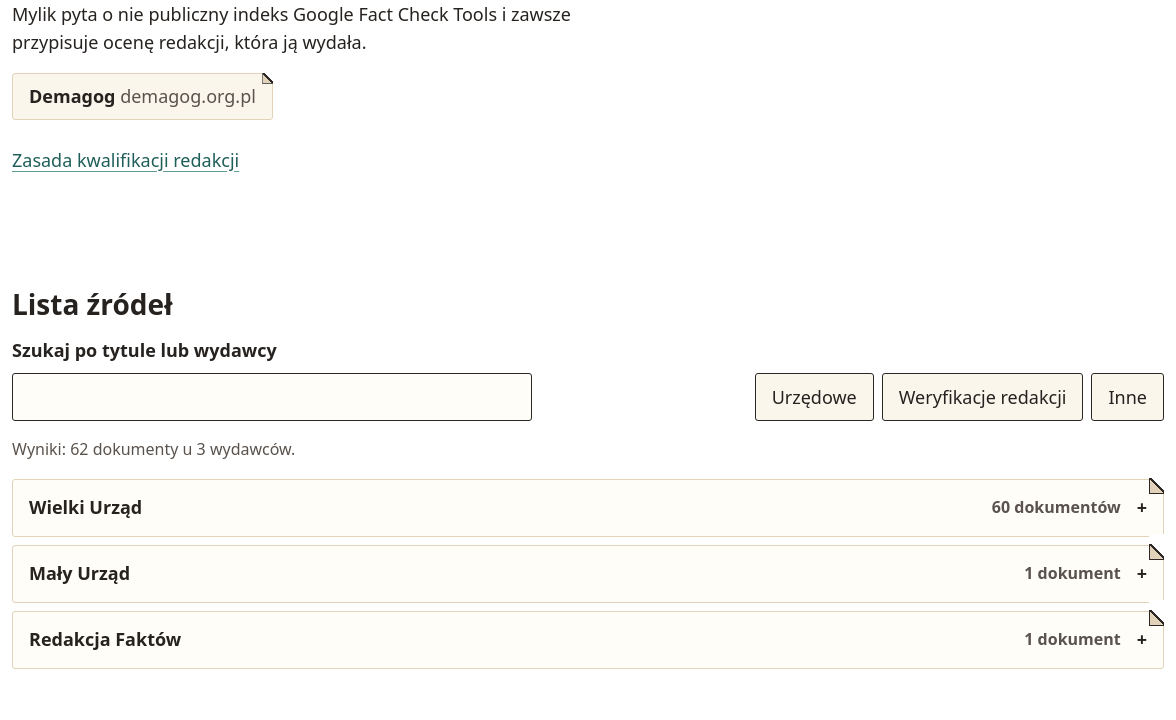
Test: strona Źródła › filtr tekstowy i przełączniki zawężają listę i aktualizują licznik
(page scrolled)
Expected: the heading "Lista źródeł" is shown, top-left (12, 285), bottom-right (173, 323)
Type "lodz" into the search field labelled "Szukaj po tytule lub wydawcy" at (272, 397), box top-left (12, 373), bottom-right (532, 421)
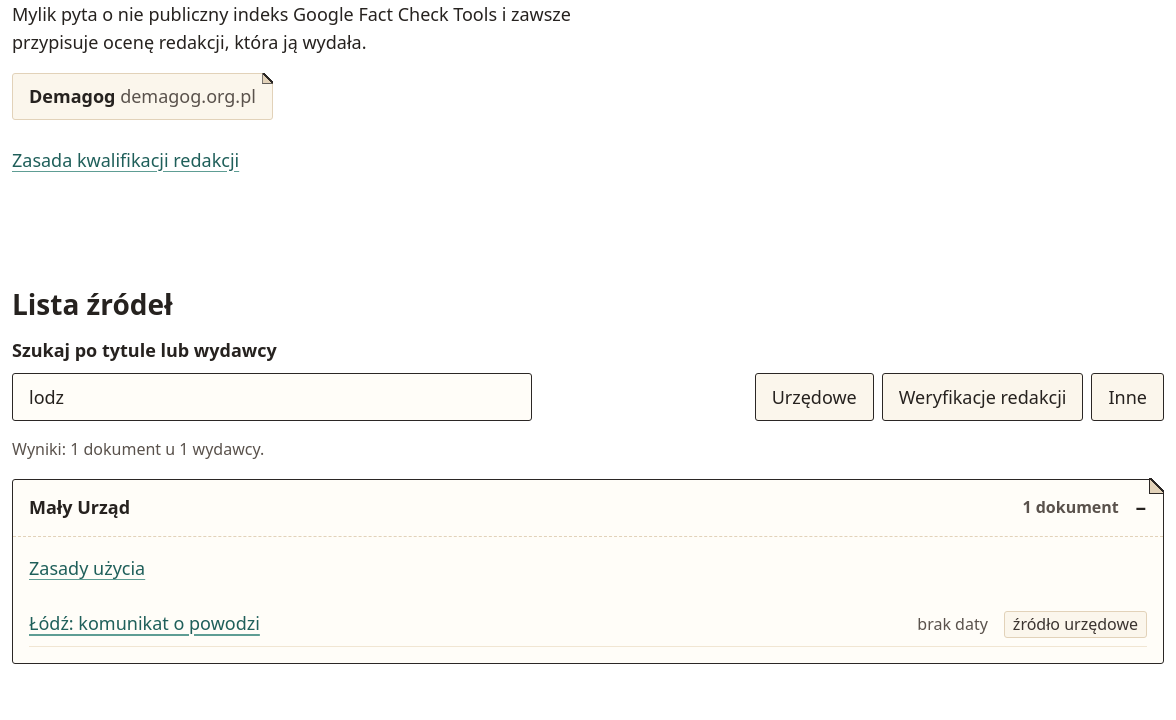
Expected: the text "Wyniki: 1 dokument u 1 wydawcy." is shown, top-left (12, 438), bottom-right (264, 460)
Expected: the link "Łódź: komunikat o powodzi" is shown, top-left (29, 610), bottom-right (490, 634)
Clear the search field labelled "Szukaj po tytule lub wydawcy" at (272, 397), box top-left (12, 373), bottom-right (532, 421)
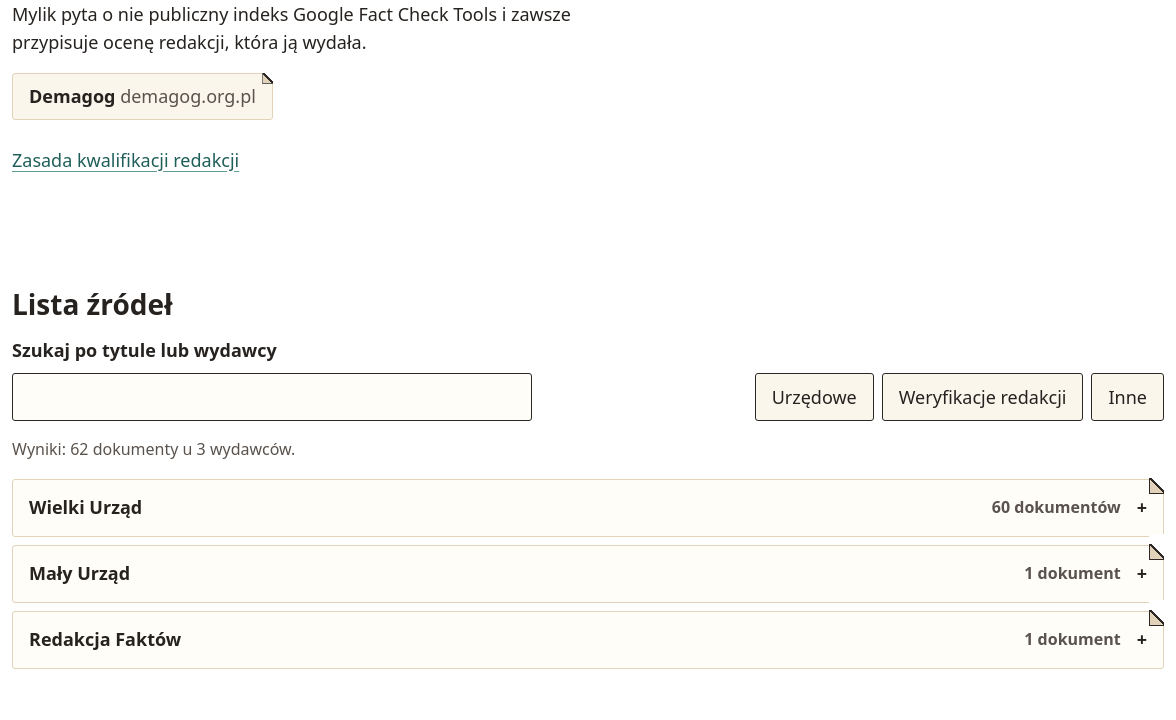
Click the button "Weryfikacje redakcji" at (983, 397), box top-left (882, 373), bottom-right (1084, 421)
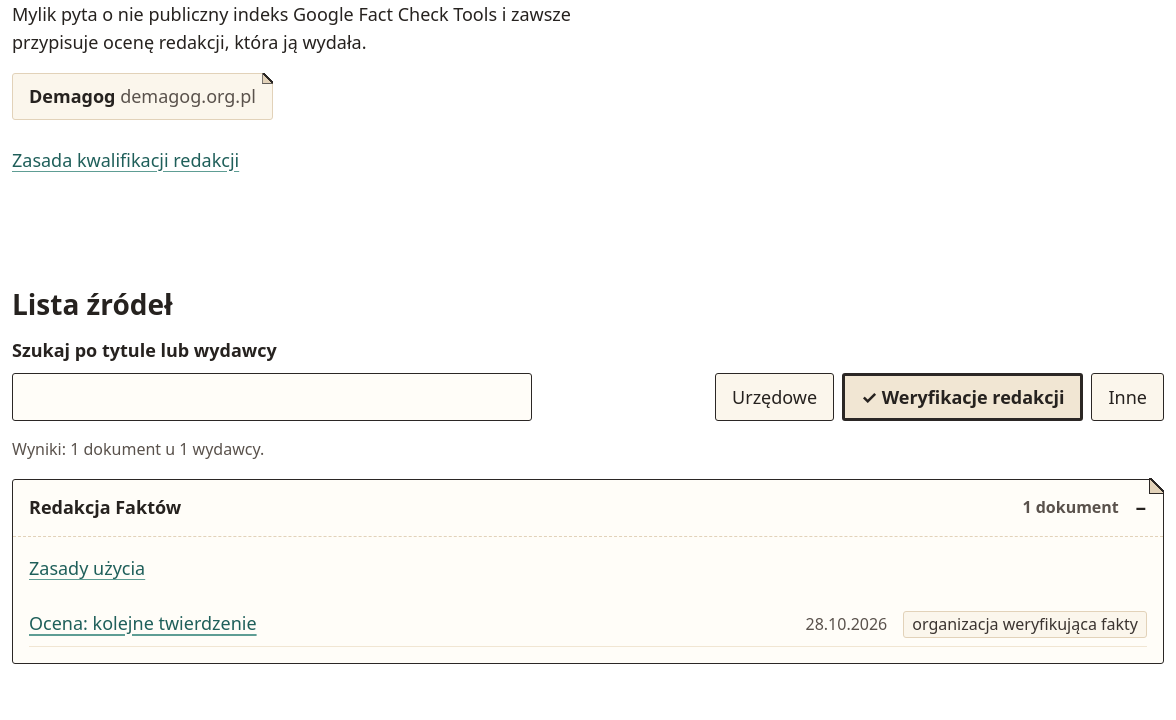
Expected: the text "Wyniki: 1 dokument u 1 wydawcy." is shown, top-left (12, 438), bottom-right (264, 460)
Type "nieistniejace" into the search field labelled "Szukaj po tytule lub wydawcy" at (272, 397), box top-left (12, 373), bottom-right (532, 421)
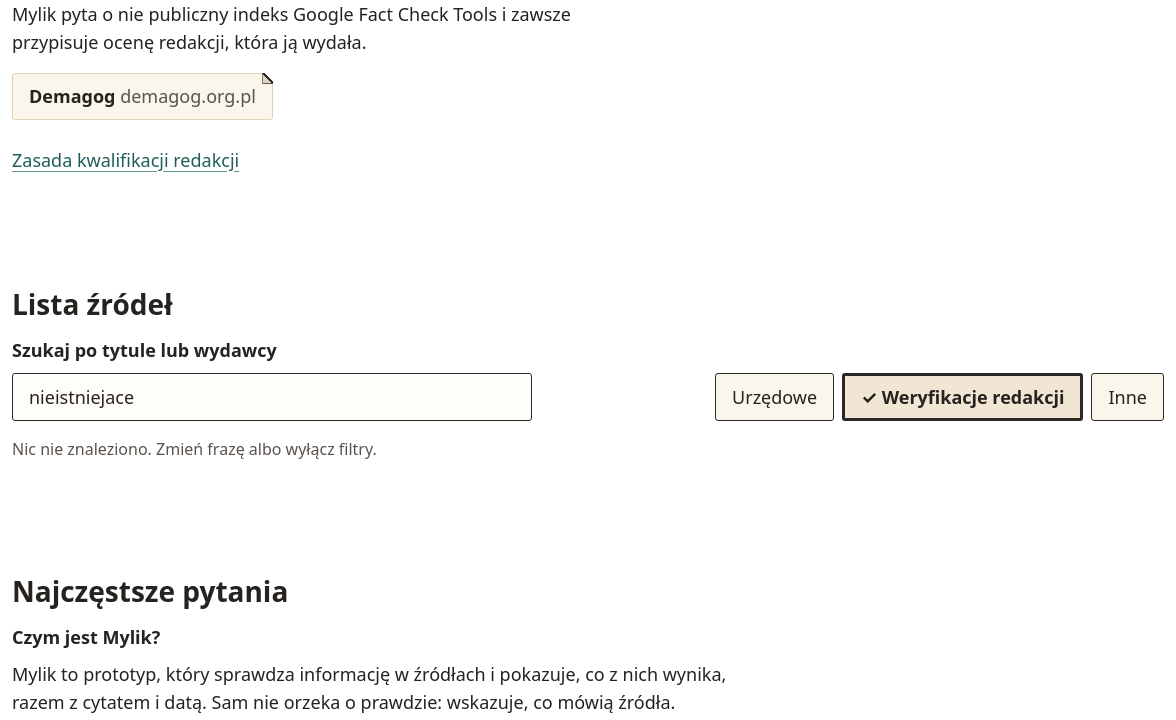
Expected: the text "Nic nie znaleziono. Zmień frazę albo wyłącz filtry." is shown, top-left (12, 438), bottom-right (377, 460)
